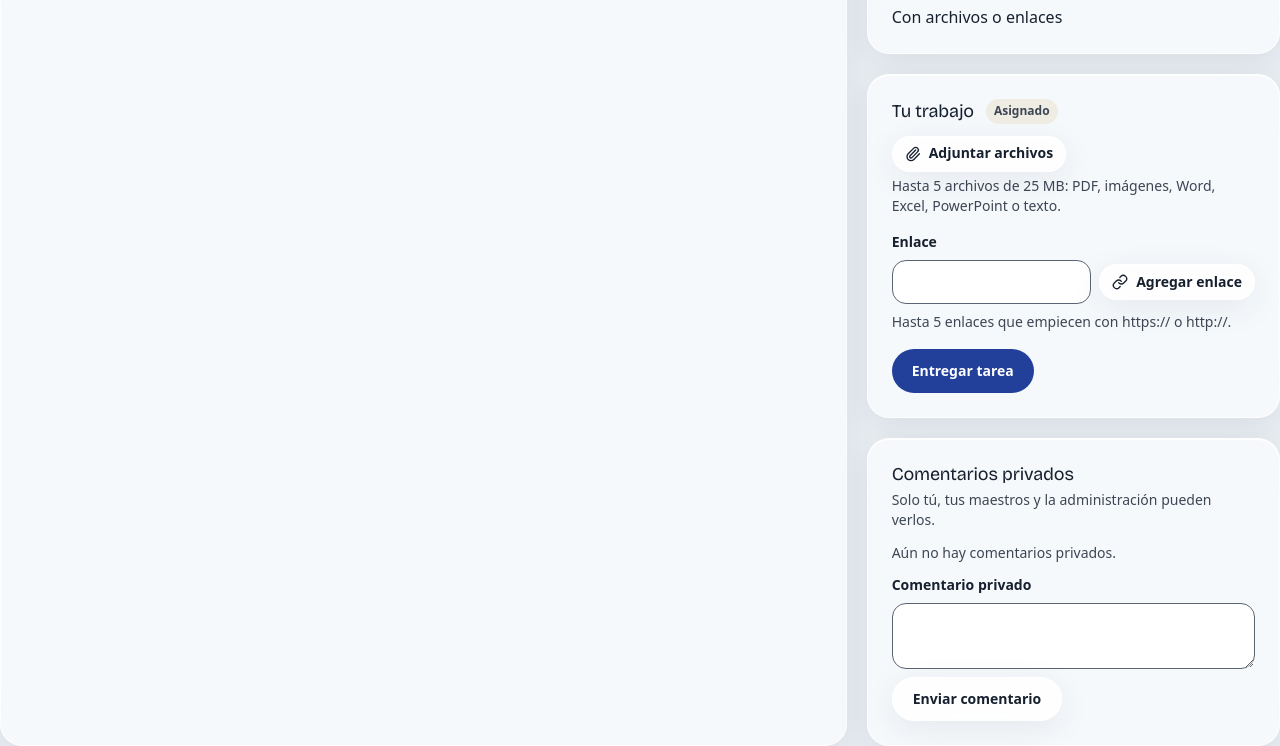
Test: ataque ENTREGAS-01d r3: un segundo rechazo del servidor (T-r3-3) › hilo: el segundo rechazo del texto deja solo el mensaje nuevo bajo el campo y lo describe
(page scrolled)
Check: the text "Aún no hay comentarios privados." is shown, box [892,543,1116,562]
Type "Hola" into the text box labelled "Comentario privado" at x=1073, y=636, box [892,603,1255,669]
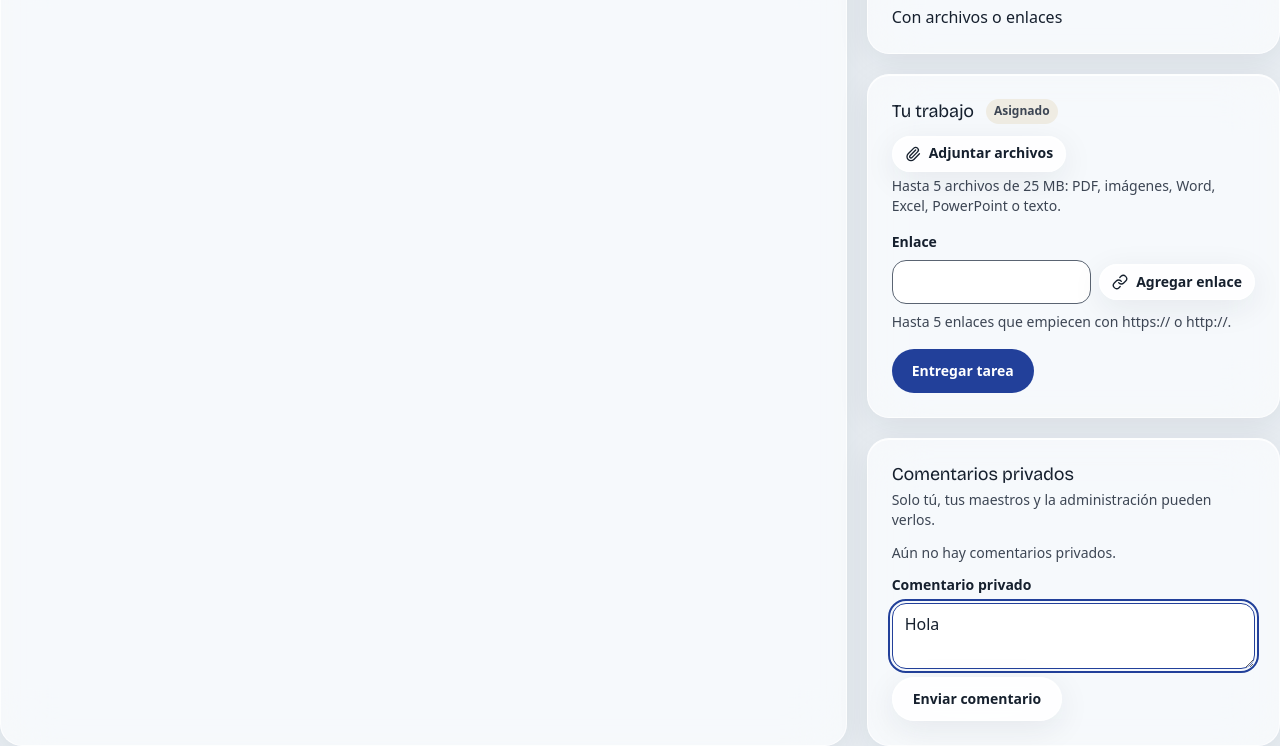
Click the button "Enviar comentario" at x=977, y=699, box [892,677,1062,721]
(page scrolled)
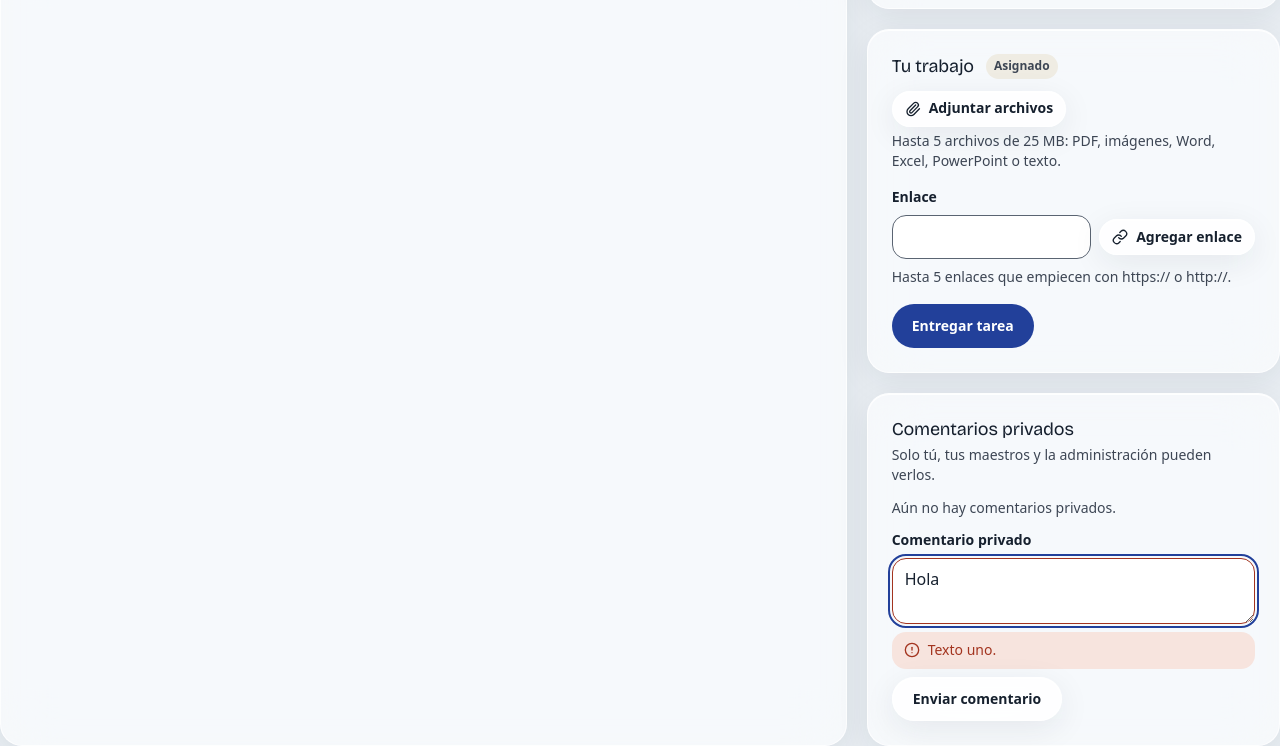
Check: the text "Texto uno." is shown, box [892,632,1255,669]
Click the button "Enviar comentario" at x=977, y=699, box [892,677,1062,721]
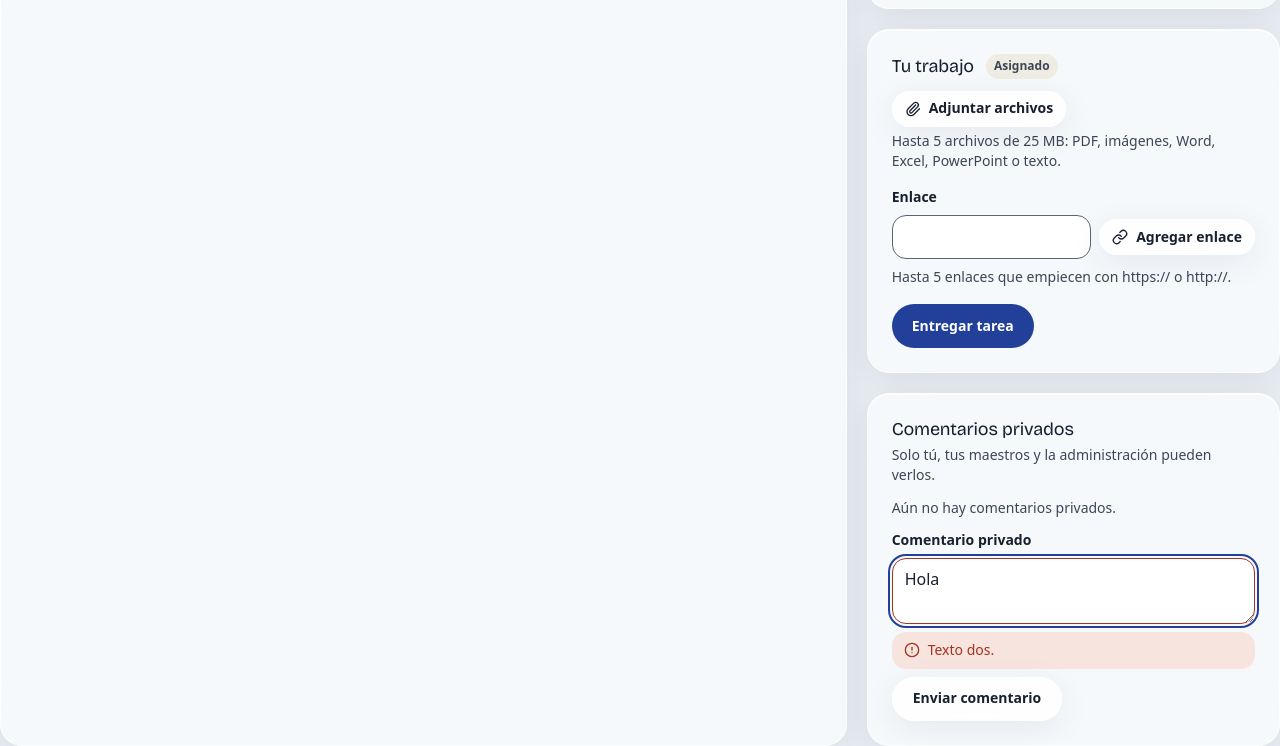
Check: the text "Texto dos." is shown, box [892,632,1255,669]
Check: the text "Texto uno." is gone
